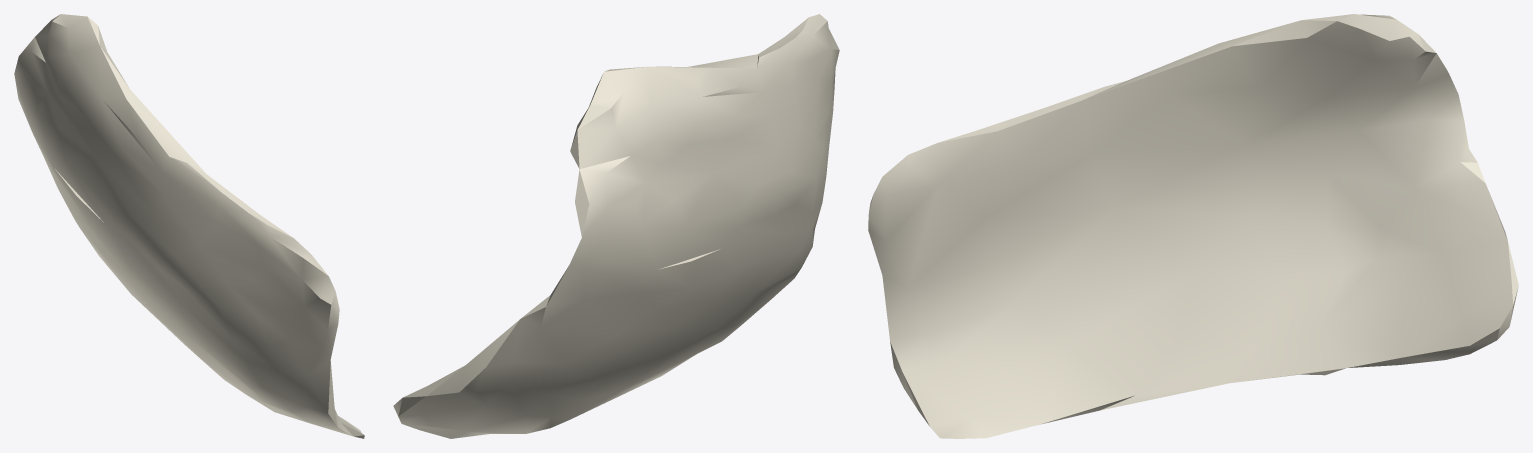
Rendered from fma326798-r_mm1442m.glb.
3 views of the same model, side by side, from view 1: azimuth 30°, elevation 25°; view 2: azimuth 150°, elevation 25°; view 3: azimuth 270°, elevation 25° (orthographic). The views are drawn at different scales.
Visible parts, largest first — view 1: FMA326798-R_MM1442M; view 2: FMA326798-R_MM1442M; view 3: FMA326798-R_MM1442M.
Boxes of the visible parts, <box> form: FMA326798-R_MM1442M: <box>14,14,364,438</box>; FMA326798-R_MM1442M: <box>393,14,839,438</box>; FMA326798-R_MM1442M: <box>868,14,1518,438</box>.
Bounding box in the file's own units: 0.00216 × 0.00453 × 0.00722.
